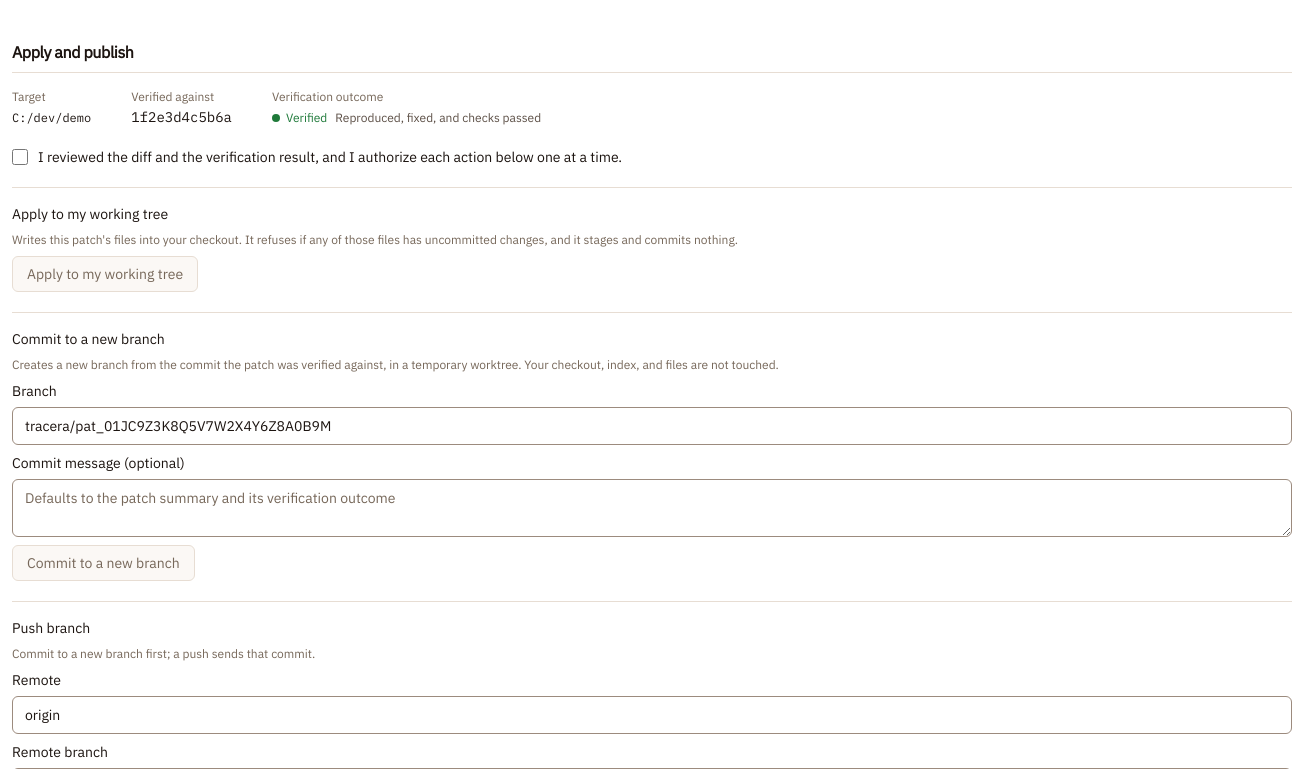
the apply and publish panel › shows the target and outcome, and keeps every action off until the outcome is acknowledged
Check: the text "C:/dev/demo" is shown, box top-left (12, 110), bottom-right (91, 125)
Check: the heading "Apply and publish" is shown, box top-left (12, 40), bottom-right (134, 64)
Click the checkbox.
click(20, 157)  # box top-left (12, 149), bottom-right (28, 165)
(page scrolled)
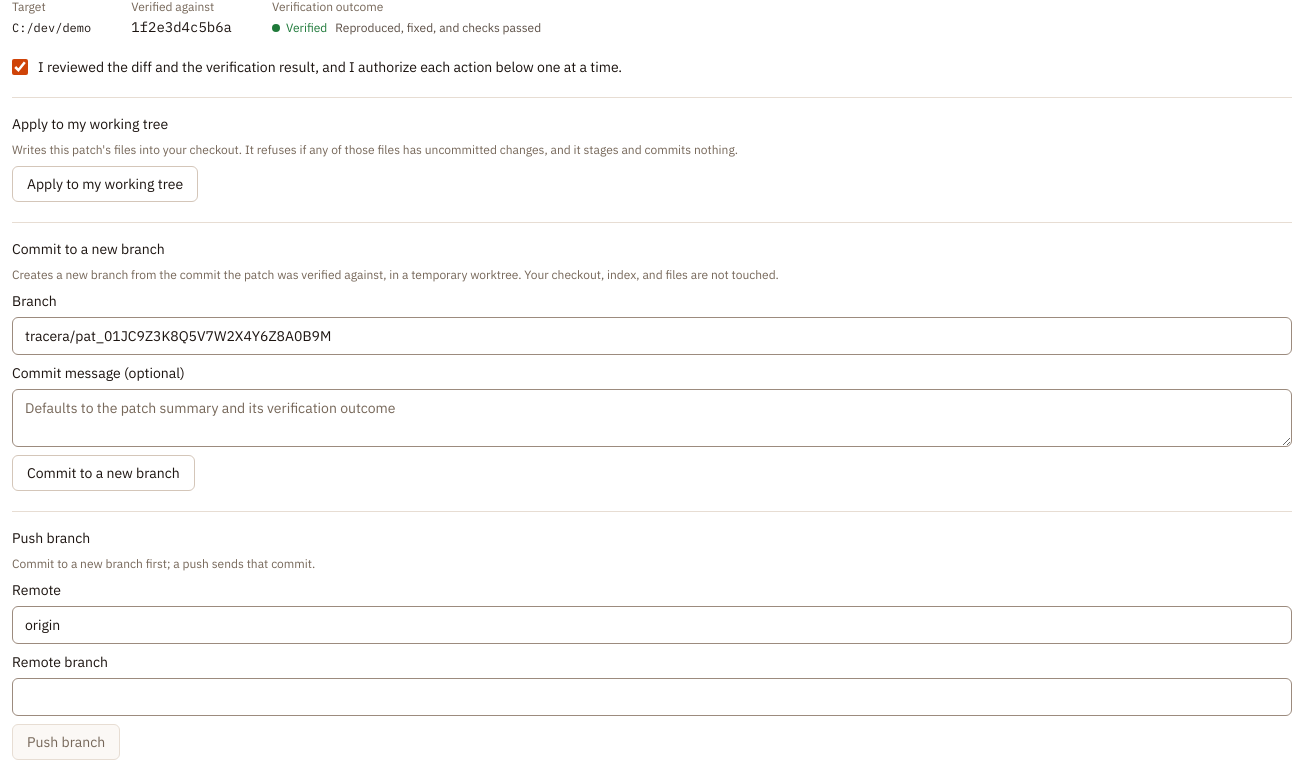
Check: the button "Push branch" is disabled, box top-left (12, 724), bottom-right (120, 760)
Check: the button "Apply to my working tree" is enabled, box top-left (12, 166), bottom-right (198, 202)
Check: the button "Commit to a new branch" is enabled, box top-left (12, 455), bottom-right (195, 491)
